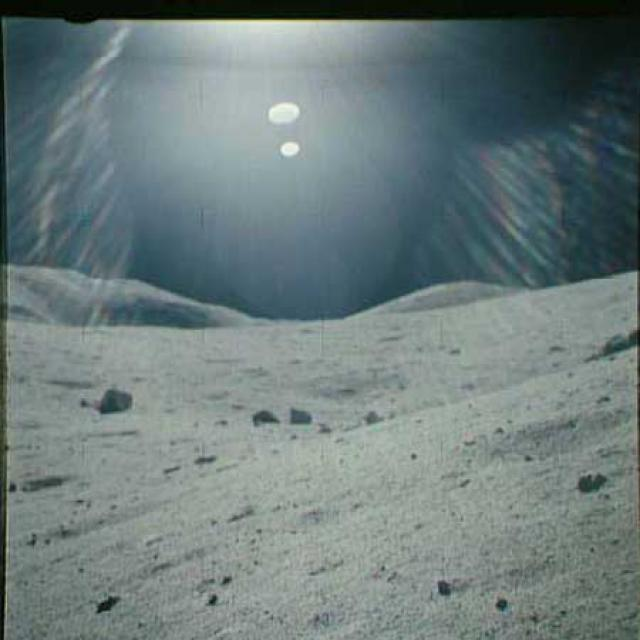crater: (7, 463, 70, 499), (29, 368, 102, 399)
rock: (94, 382, 139, 420), (242, 397, 280, 429), (568, 466, 609, 494), (284, 404, 314, 426)
